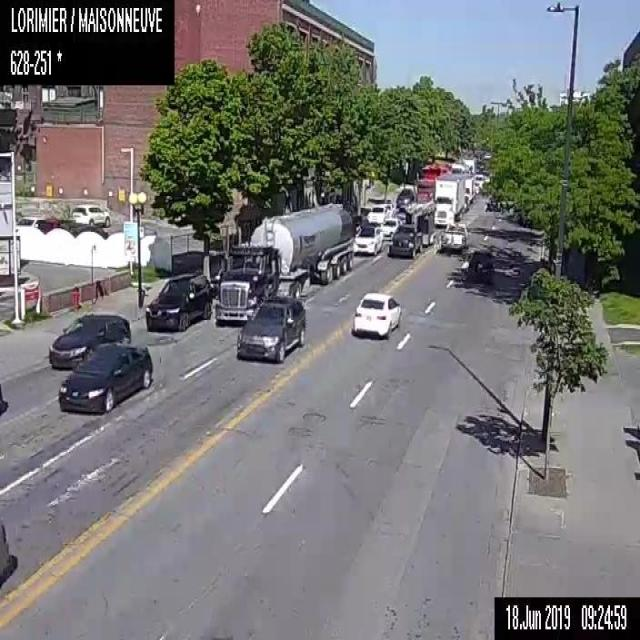vehicle: (215, 203, 353, 324), (58, 344, 152, 412), (236, 297, 305, 362), (49, 314, 130, 368), (145, 274, 212, 332), (350, 291, 400, 337), (388, 212, 434, 257), (433, 174, 464, 225), (438, 222, 468, 254), (71, 203, 110, 227), (353, 223, 383, 254), (467, 250, 495, 282), (0, 520, 11, 587), (380, 218, 401, 240), (366, 205, 389, 222), (15, 215, 44, 228), (0, 380, 9, 420), (396, 188, 414, 208), (464, 177, 474, 203), (464, 195, 468, 211)
